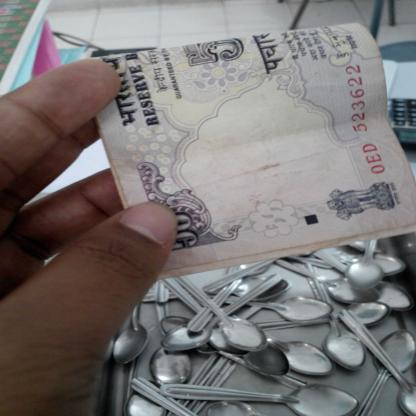Old50Front: (80, 23, 416, 280)
